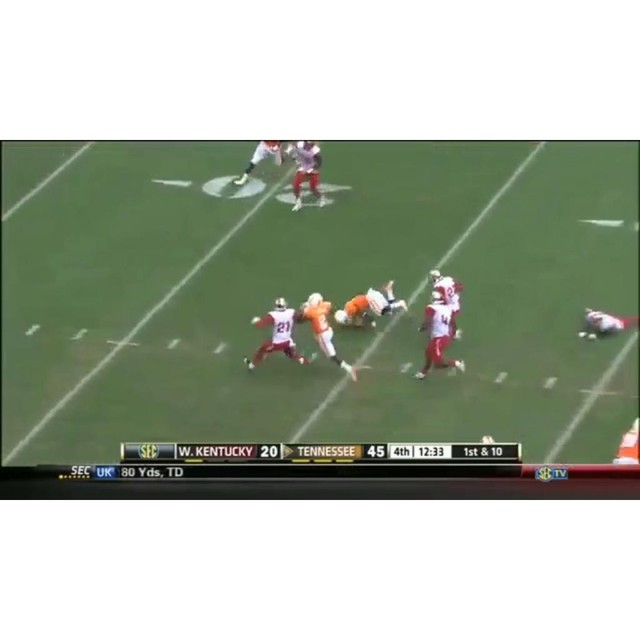american-football-player: (298, 293, 359, 381), (245, 297, 306, 373), (414, 291, 465, 381), (285, 142, 326, 212), (430, 270, 465, 339), (233, 141, 284, 187), (577, 307, 636, 341)
